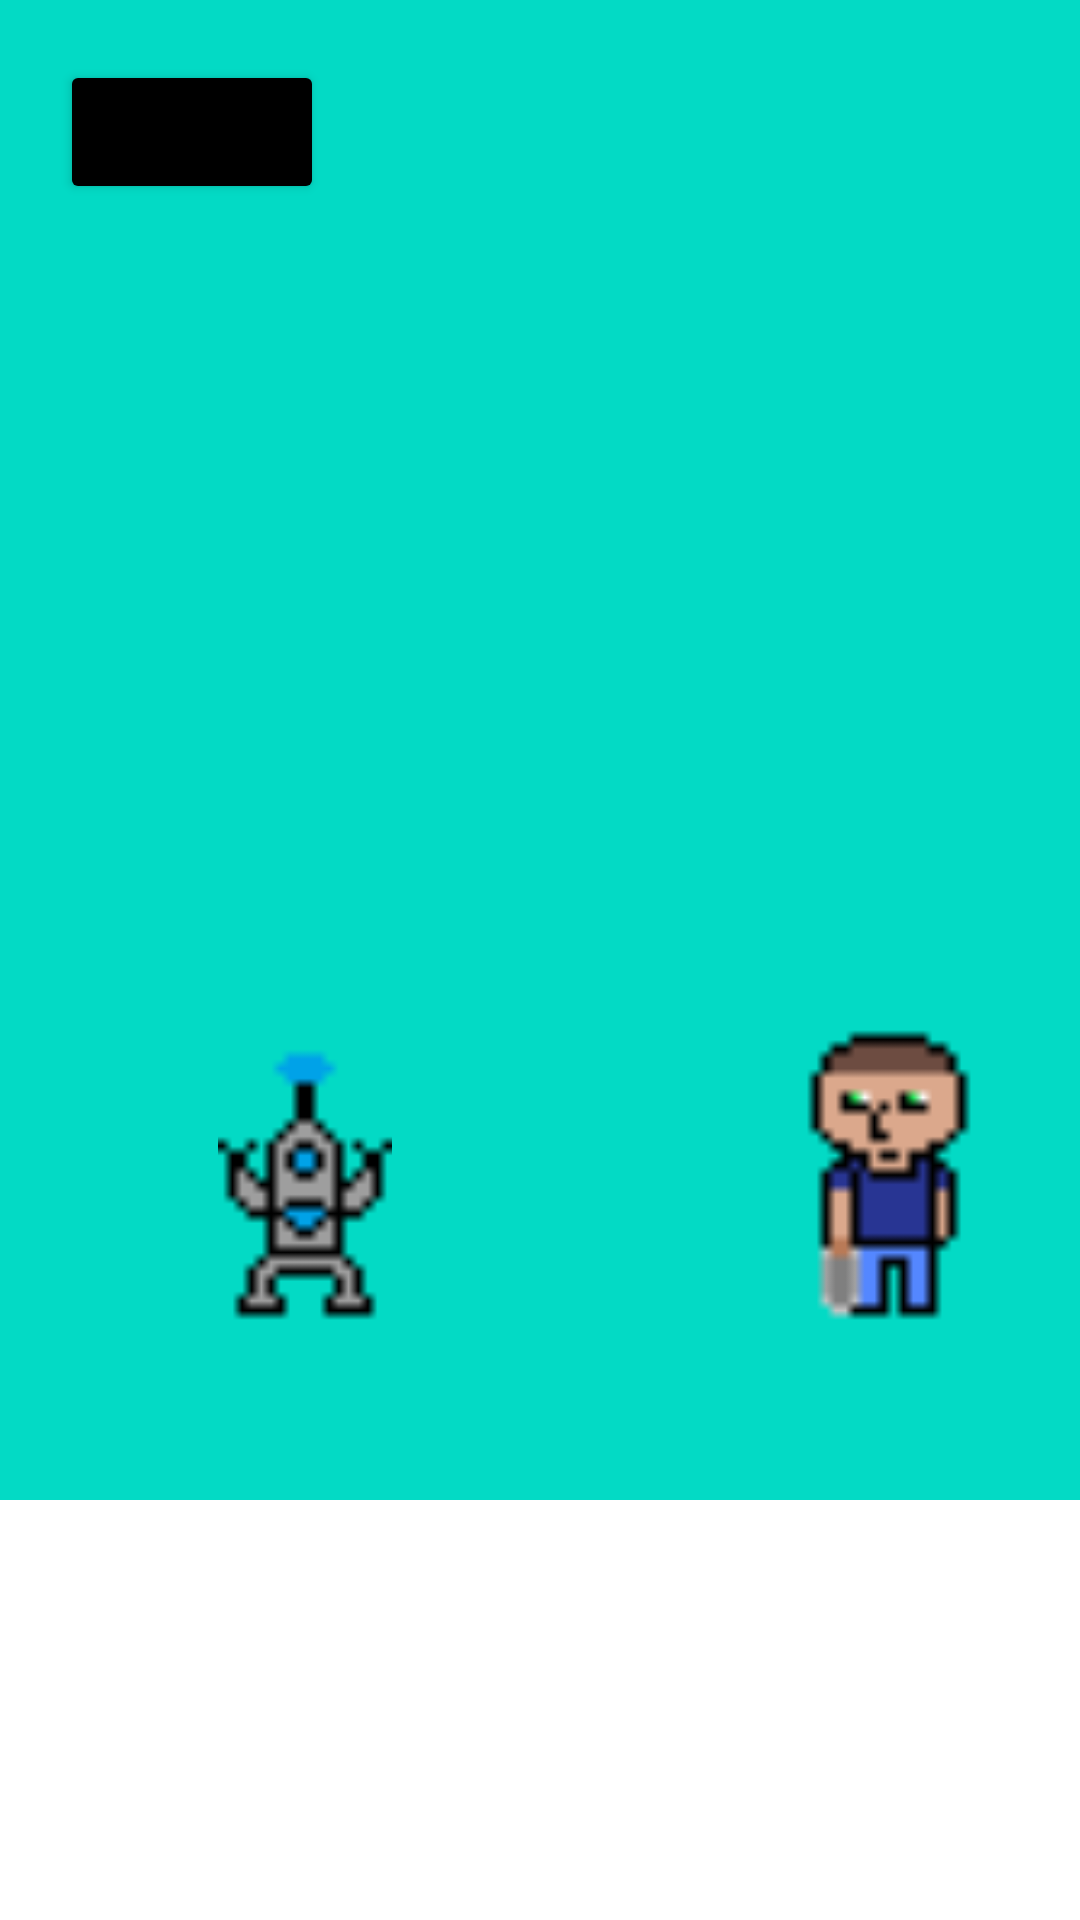

Locate icon controls on the screen. Image size 1080 x 1920, boxes as (x1,y1,x2,y2).
character: (808,1031,970,1319)
robot: (218,1053,392,1319)
